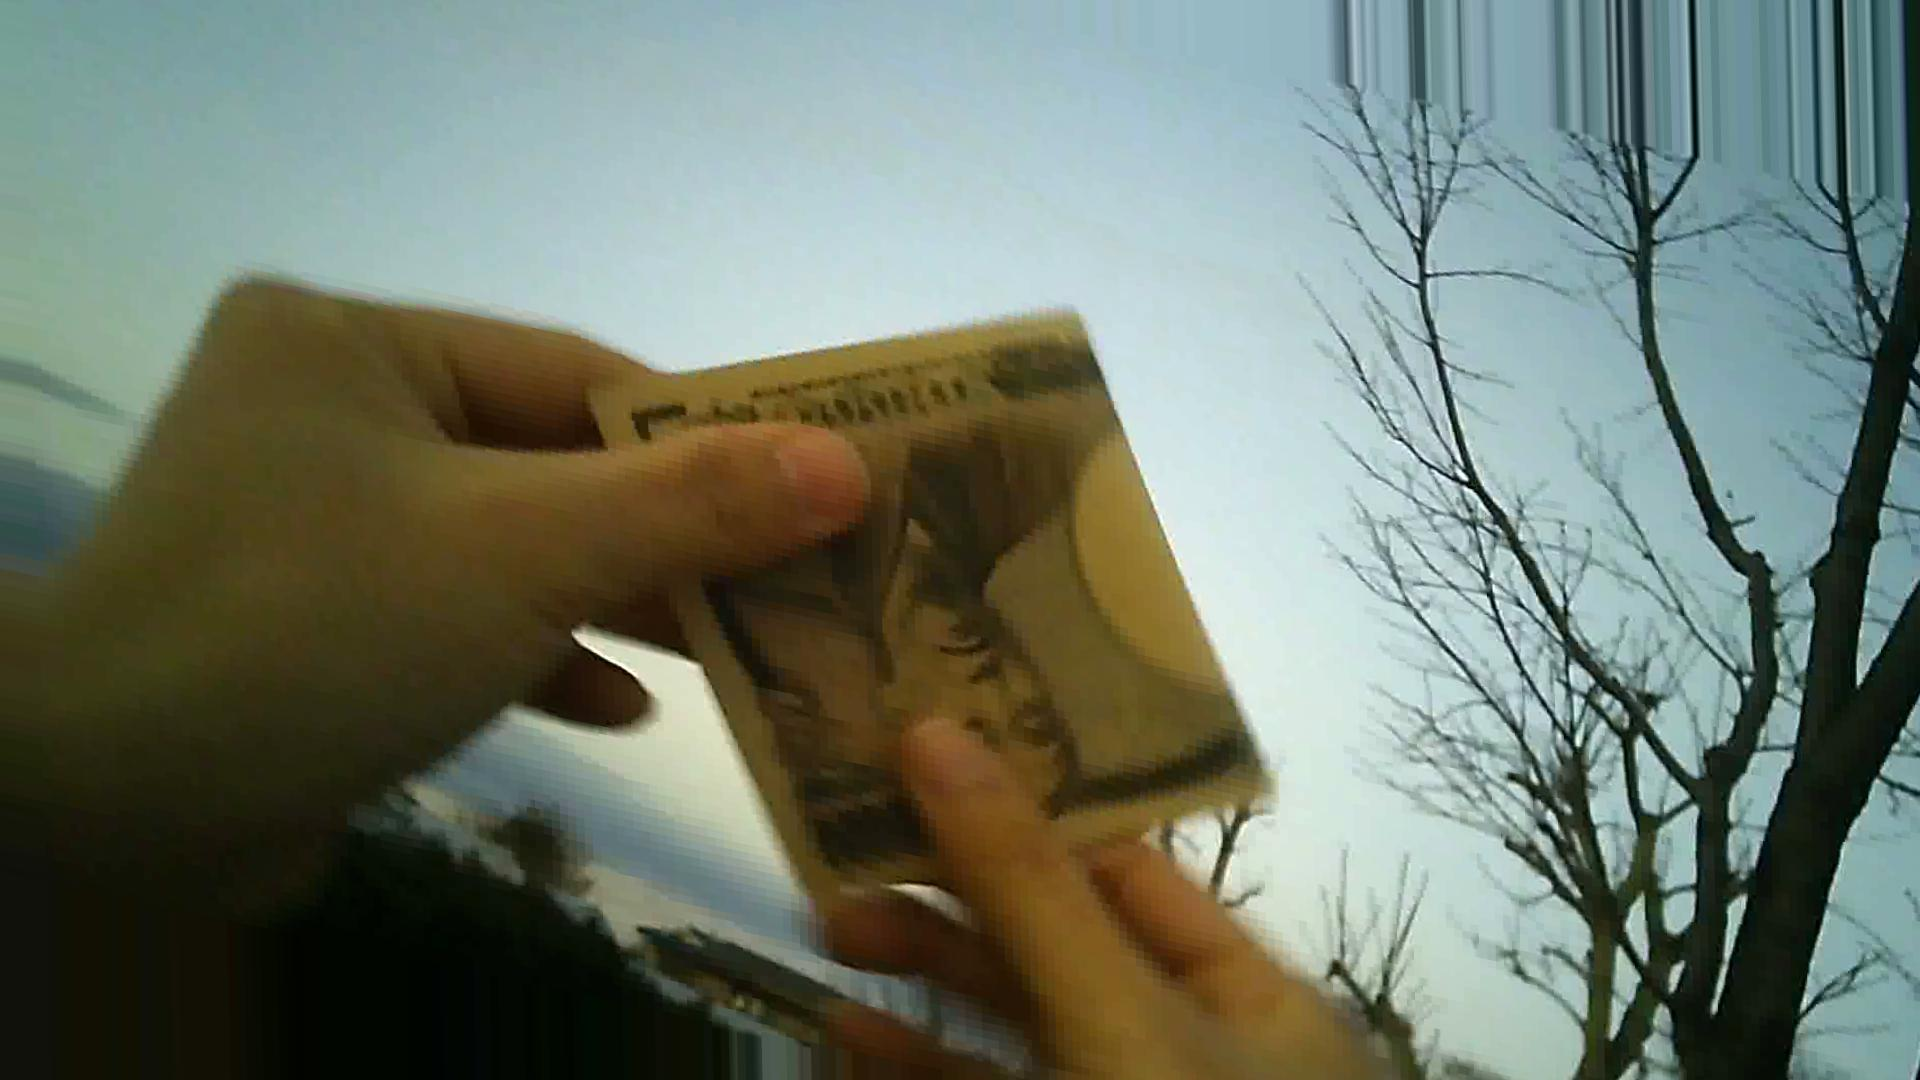10,000 Yen: (578, 291, 1303, 915)
